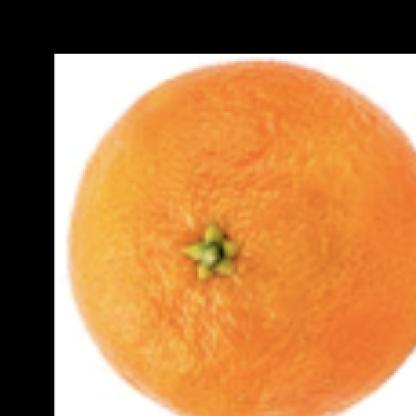rotten: (75, 60, 416, 416)
